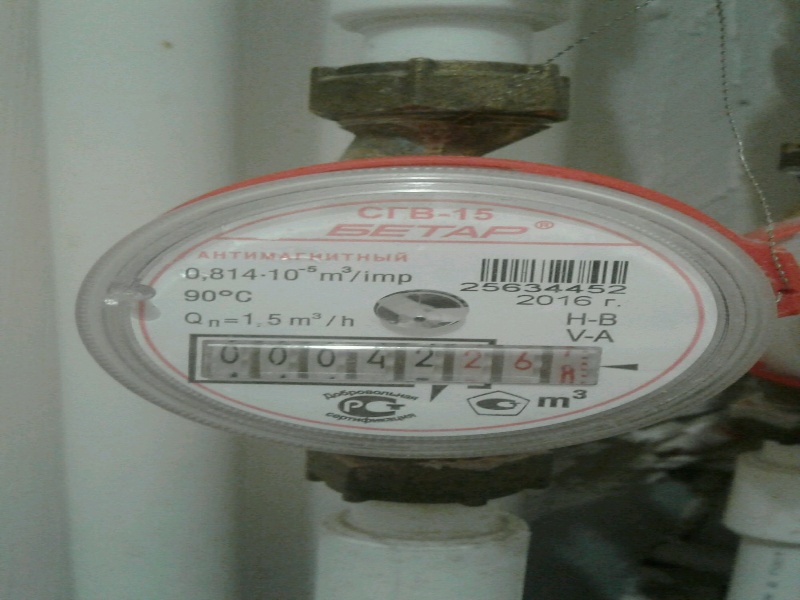meter: (190, 334, 589, 389)
